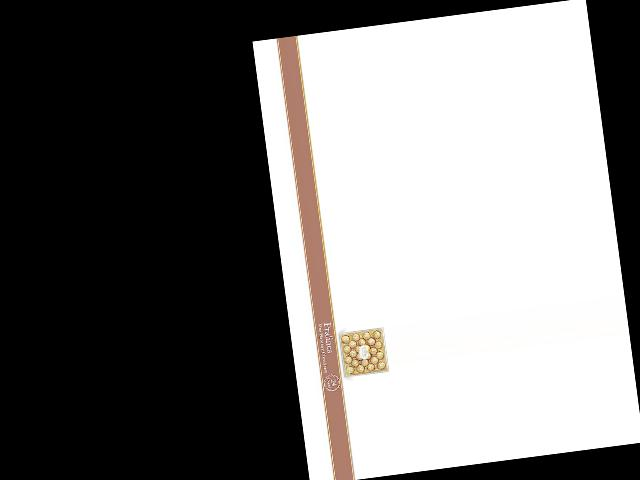chocolate: (336, 325, 392, 380)
